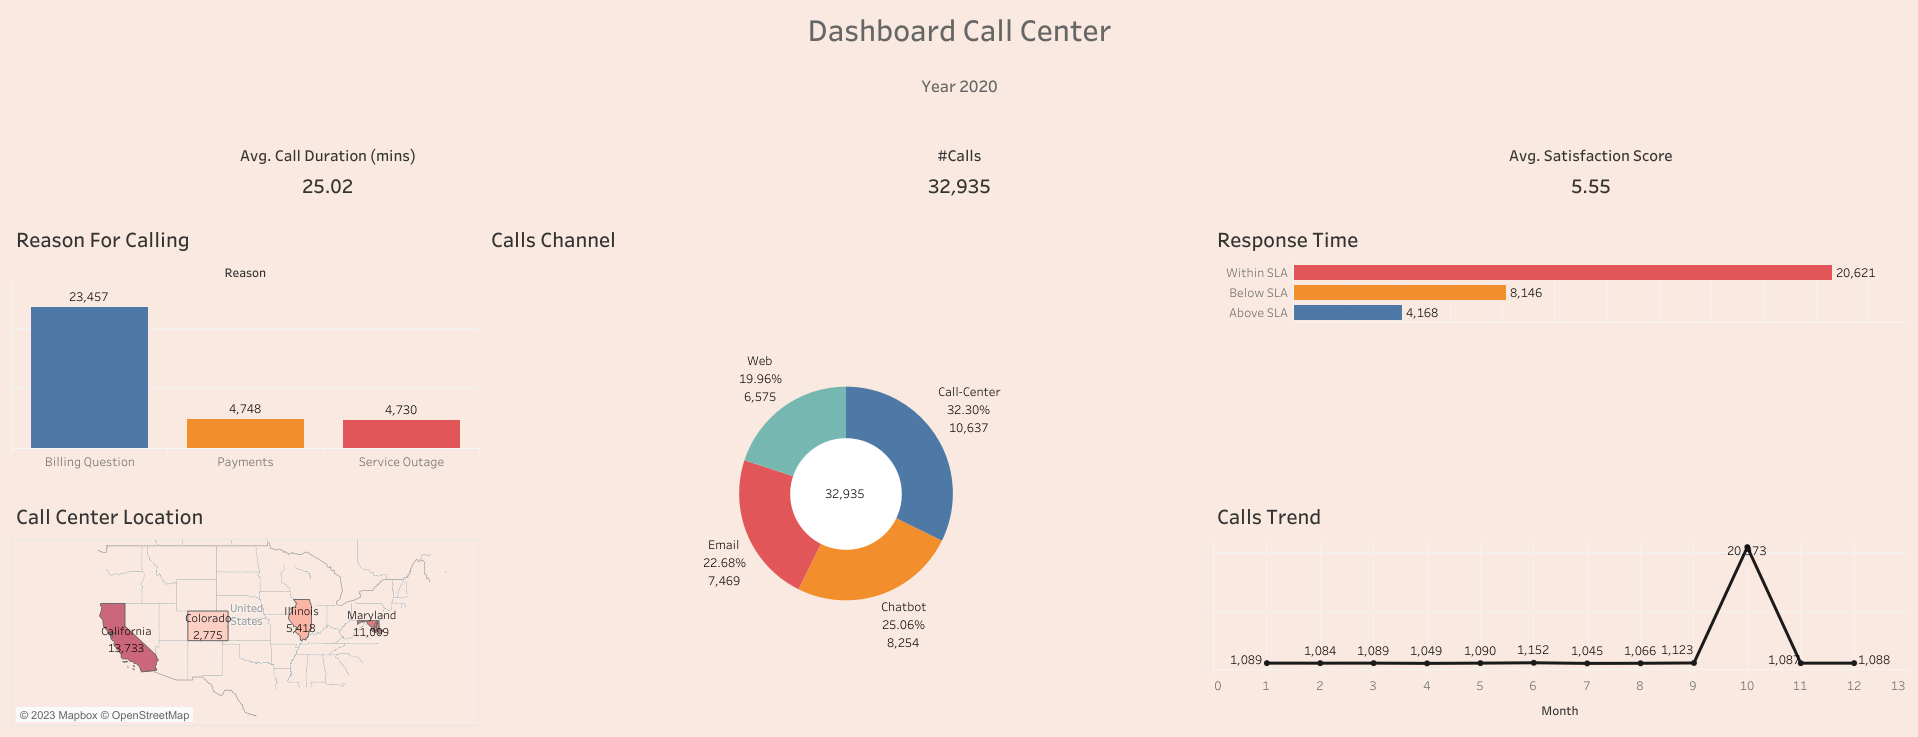

The page's visual inventory and layout, read from the dashboard file:
{"tool":"tableau","page":{"name":"Dashboard 1","canvas":[1000,1000],"units":"permille","ordinal":0},"visuals":[{"type":"text","box":[6,13.7,988.1,54.7]},{"type":"text","box":[6,68.4,988.1,54.8]},{"type":"worksheet","title":"# calls","mark":"Automatic","box":[101.9,123.2,89.2,231.5]},{"type":"worksheet","title":"avg satisfaction score","mark":"Automatic","box":[252.8,123.2,376.5,231.1]},{"type":"worksheet","title":"avg call duration","mark":"Automatic","box":[698.9,123.2,222.9,231.1]},{"type":"worksheet","title":"calls channel","mark":"Pie","rows":["Calculation_747316120996356097","Calculation_747316120996405251"],"box":[252.8,354.4,376.5,632]},{"type":"worksheet","title":"response time","mark":"Automatic","rows":["response_time"],"cols":["response_time"],"box":[629.3,354.4,364.7,275.7]},{"type":"worksheet","title":"reason","mark":"Automatic","rows":["reason"],"cols":["reason"],"box":[6,354.7,246.9,313.2]},{"type":"worksheet","title":"call trend","mark":"Automatic","rows":["month"],"cols":["month"],"box":[629.3,630.1,364.7,356.2]},{"type":"worksheet","title":"location","mark":"Automatic","box":[6,667.9,246.9,318.4]}]}

Visuals, with their boxes on the dashboard's canvas, which has no fixed pixel size, in thousandths of its width and height (x1, y1, x2, y2). These are canvas units, not pixel positions in the 1918x737 screenshot, which may show the page scaled, cropped or inside an application window:
text: 6,14,994,68
text: 6,68,994,123
"# calls" worksheet: 102,123,191,355
"avg satisfaction score" worksheet: 253,123,629,354
"avg call duration" worksheet: 699,123,922,354
"calls channel" worksheet (Pie marks): 253,354,629,986
"response time" worksheet: 629,354,994,630
"reason" worksheet: 6,355,253,668
"call trend" worksheet: 629,630,994,986
"location" worksheet: 6,668,253,986
